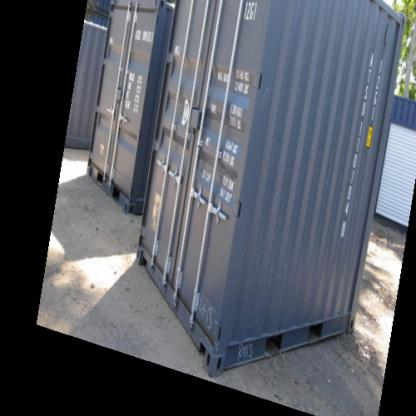Damage: (191, 292, 223, 344), (375, 16, 392, 59), (233, 335, 256, 362), (259, 69, 272, 108)
